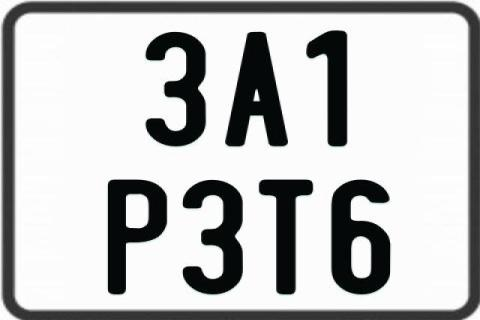0: (143, 31, 207, 149), (180, 179, 246, 293), (328, 178, 387, 296), (305, 29, 351, 148)
A: (225, 30, 289, 146)
P: (105, 178, 165, 294)
T: (258, 179, 318, 295)
